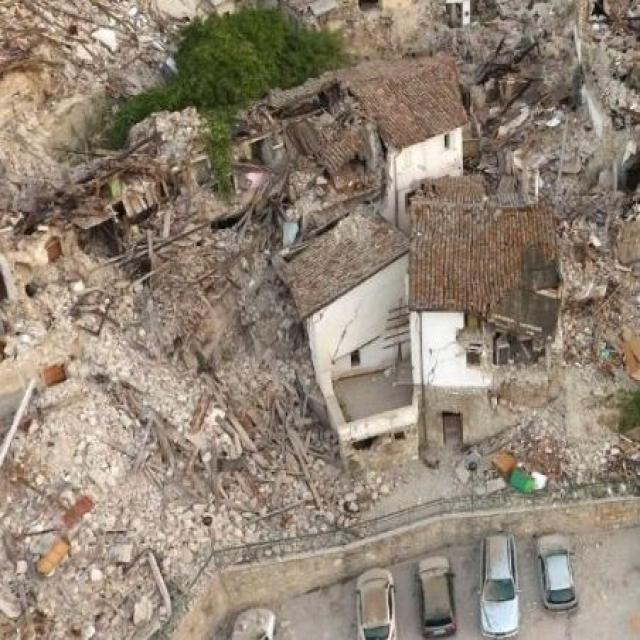collapsed_building: (31, 94, 346, 306), (276, 248, 416, 482)
